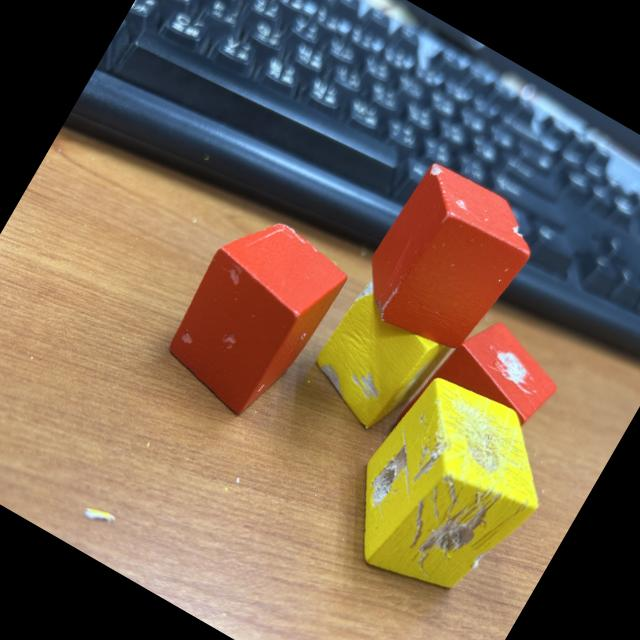broken: (323, 360, 574, 624), (150, 202, 356, 430), (346, 156, 550, 369), (390, 300, 572, 490), (298, 261, 472, 448)
